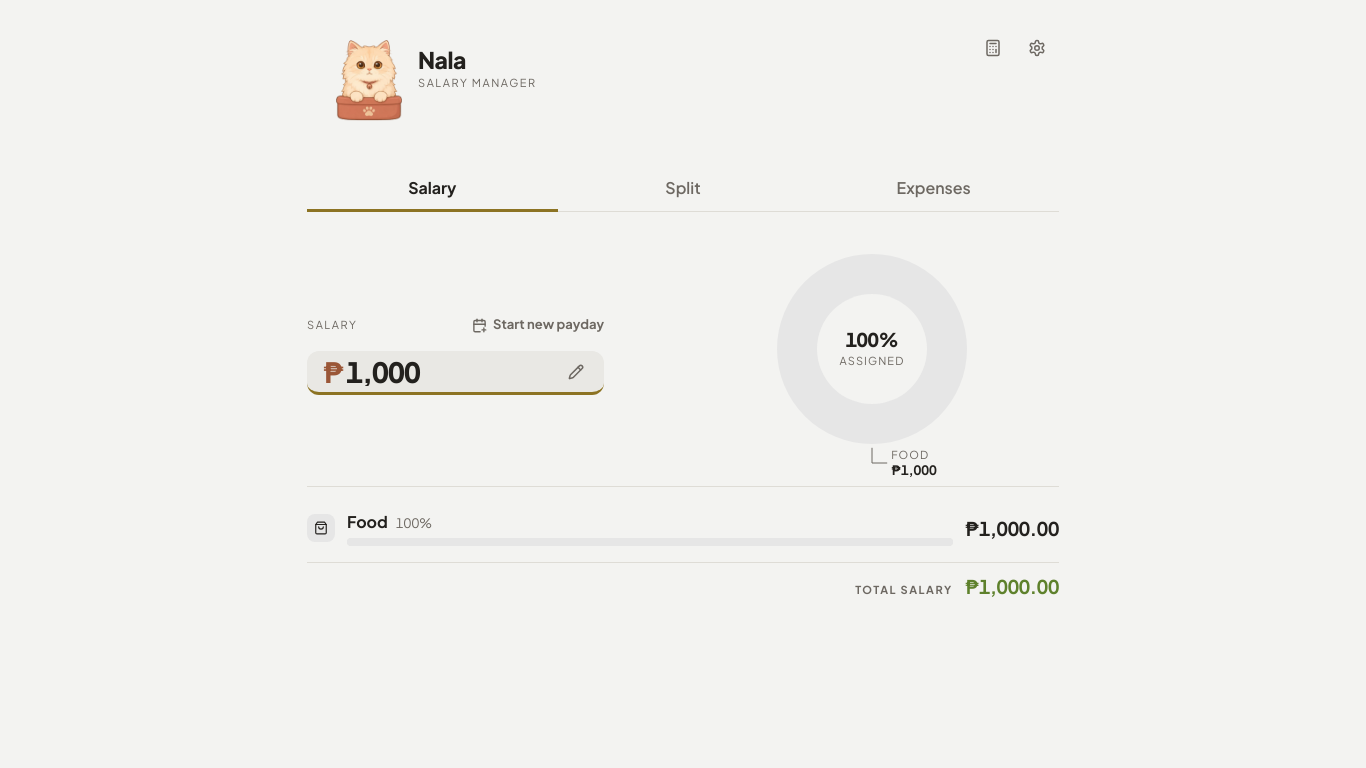
Scenario: expense tracking in App › edits an expense in place from its edit button
Click the tab "Expenses": (934, 190) [808,168,1059,212]
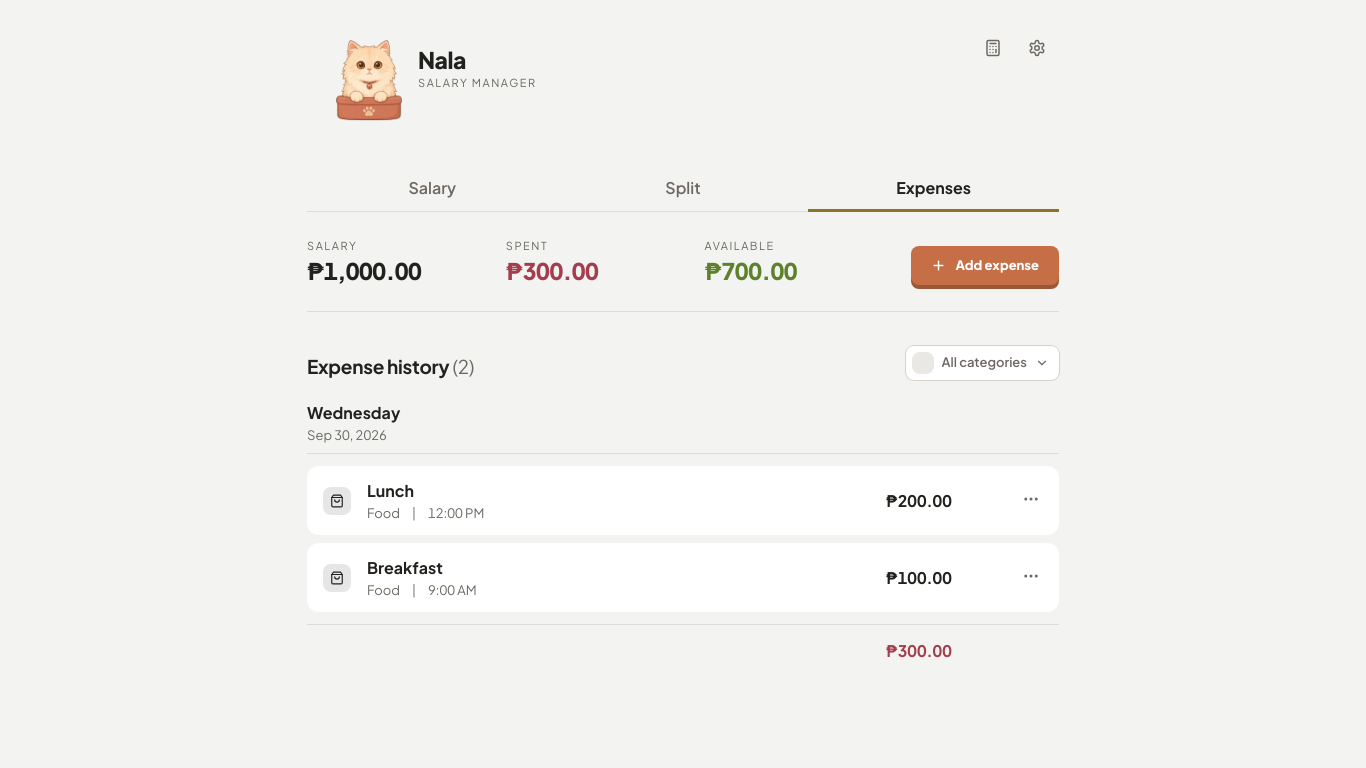
Check: the text "Lunch" is shown, box [367,480,414,501]
Click the button named "options for lunch": (1031, 499) [1009,477,1053,521]
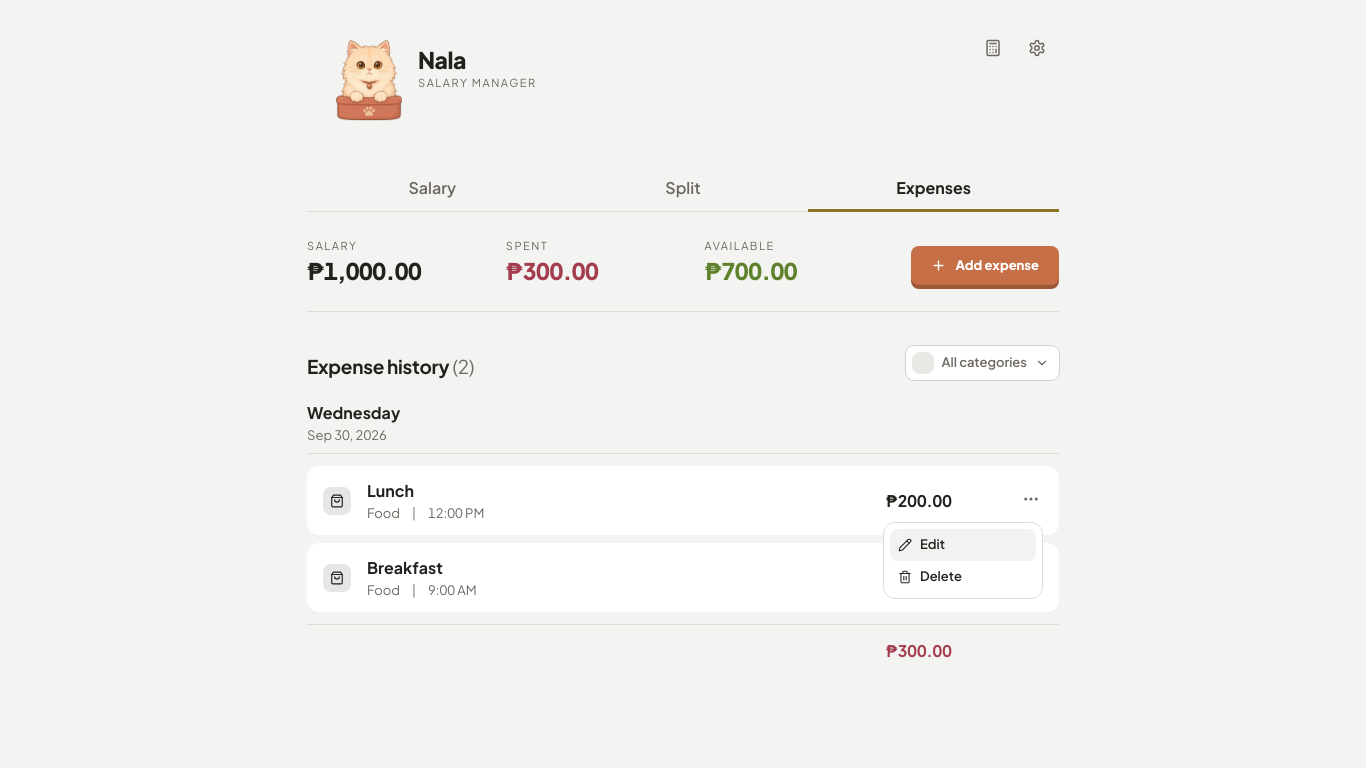
Click the menu item "Edit": (963, 545) [890,529,1036,561]
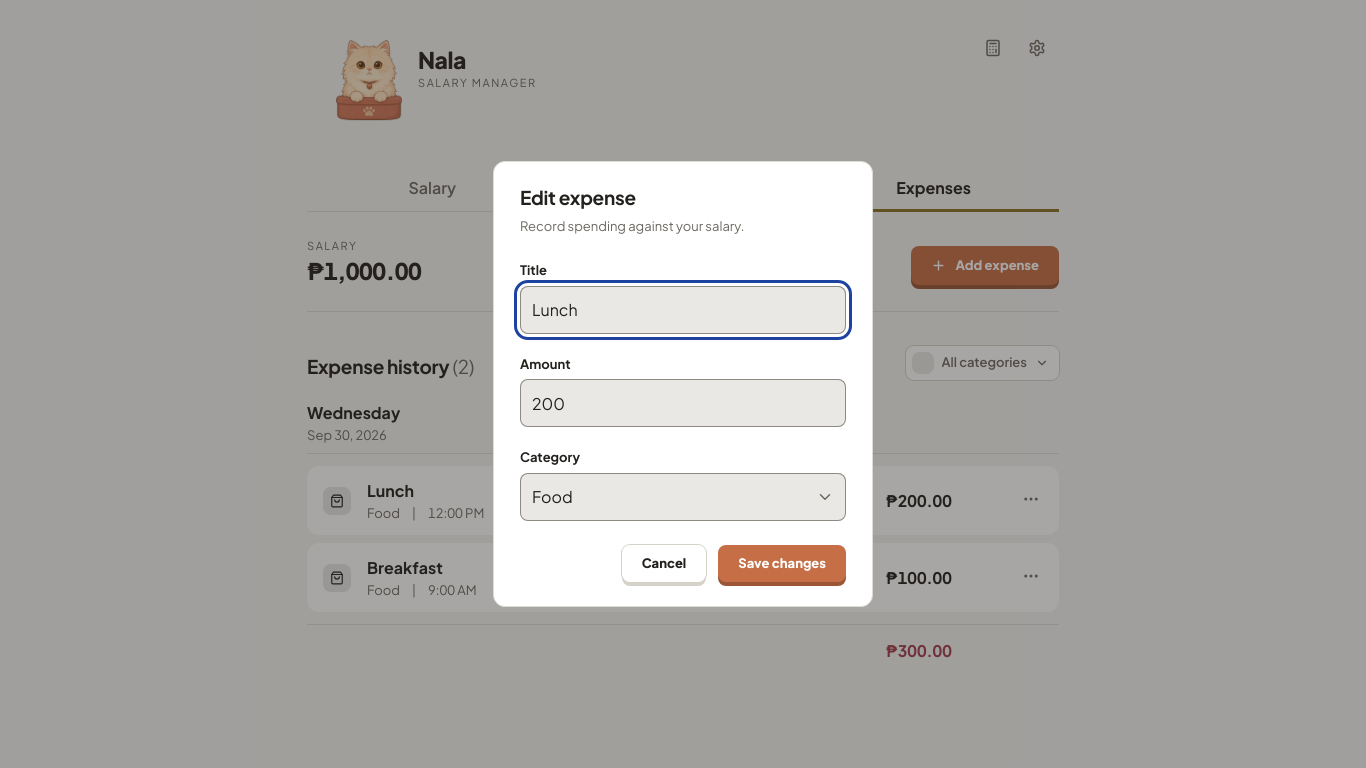
Check: the dialog "Edit expense" is shown, box [493,161,873,607]
Check: the field labelled "Amount" holds "200", box [520,379,846,427]
Replace the text in the field labelled "Title" with "Late lunch": (683, 310) [520,286,846,334]
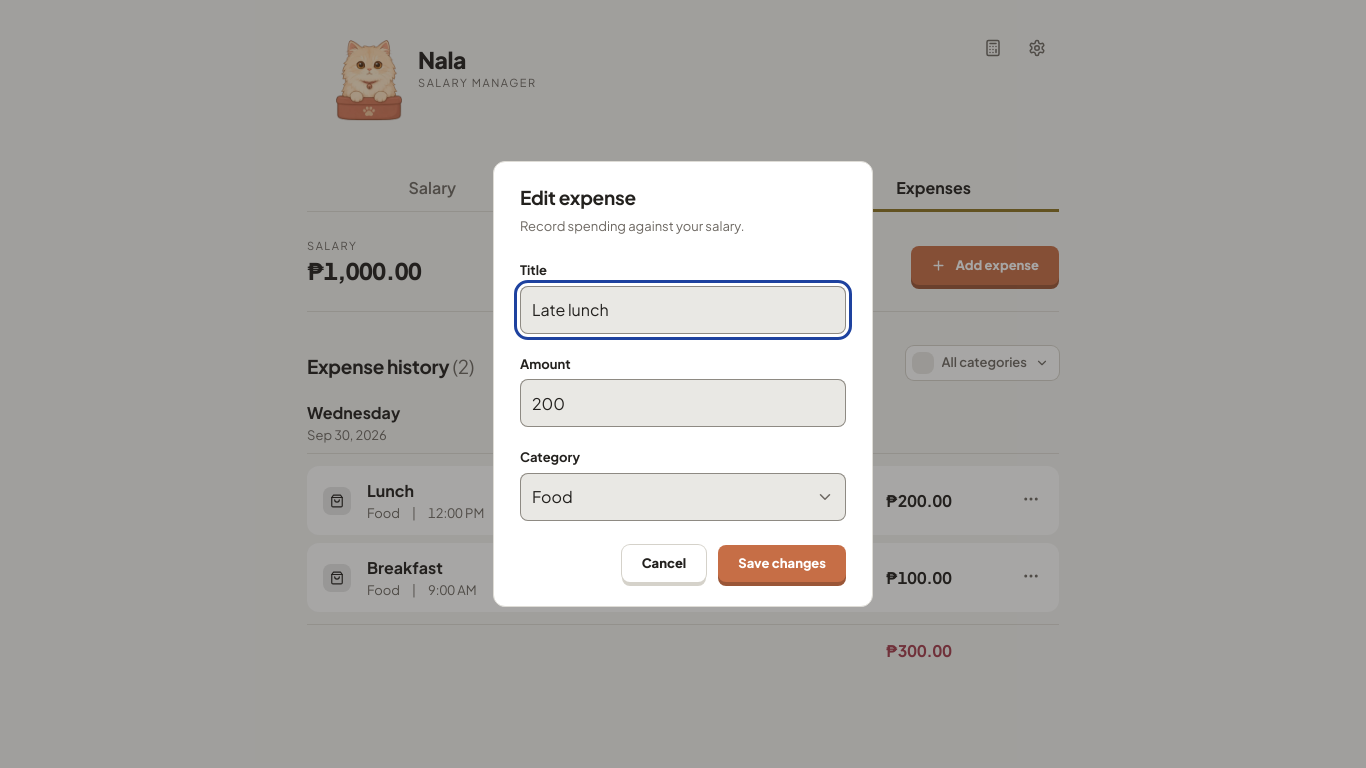
Replace the text in the field labelled "Amount" with "250": (683, 403) [520,379,846,427]
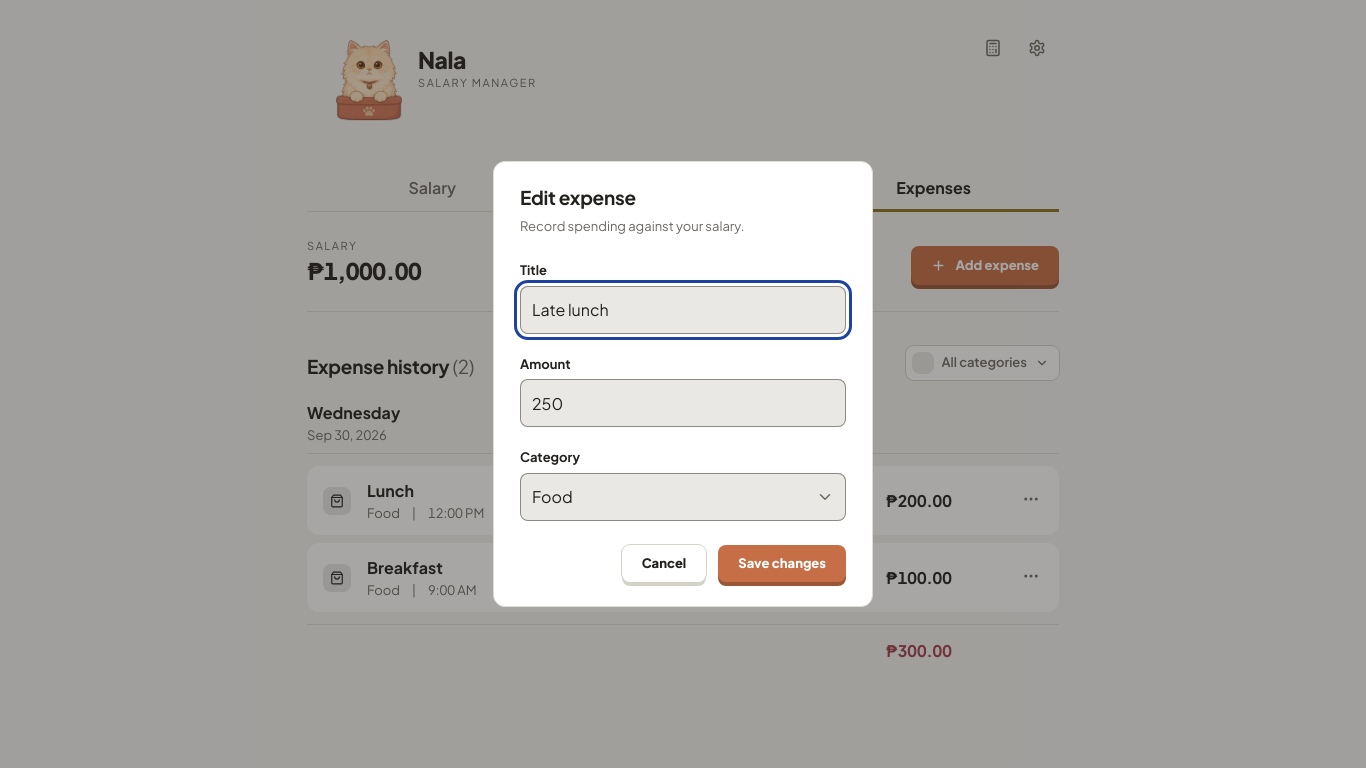
Click the button "Save changes": (782, 564) [718,545,846,582]
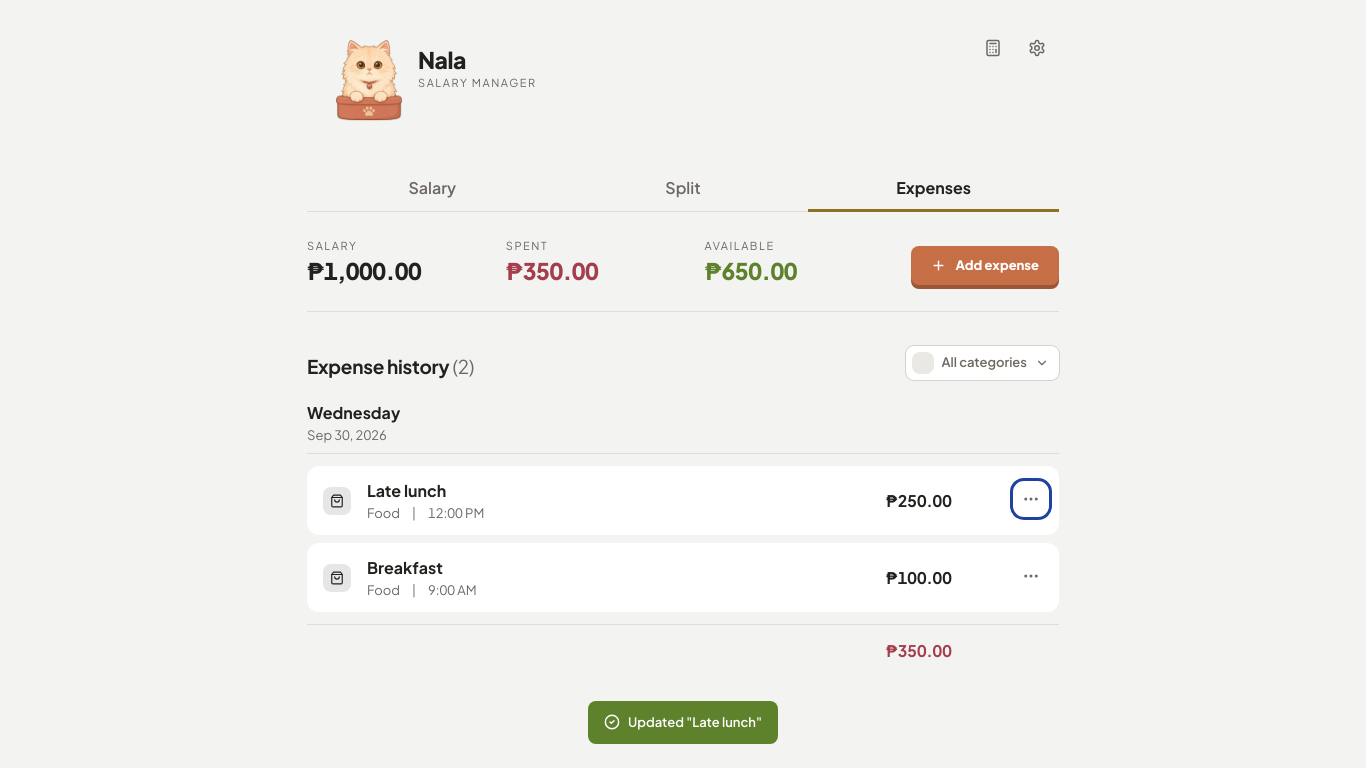
Check: the dialog is gone
Check: the text "Late lunch" is shown, box [367,480,446,501]
